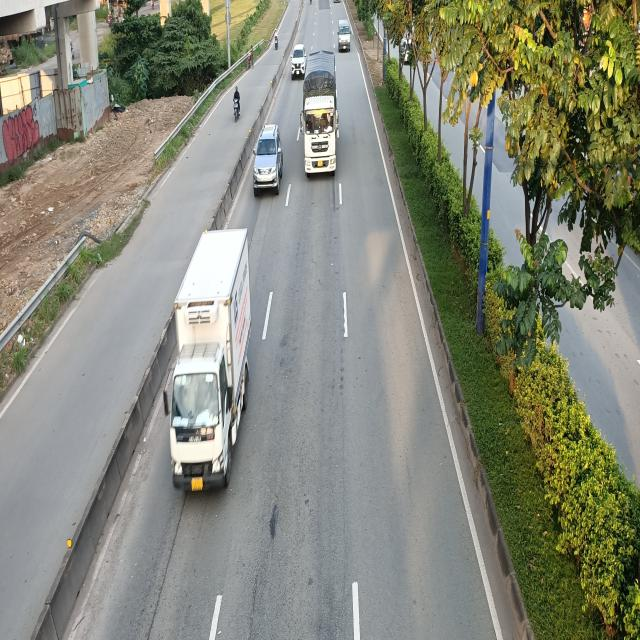car: (254, 122, 283, 194), (290, 44, 306, 80), (338, 20, 352, 51)
truck: (158, 226, 252, 494), (302, 48, 340, 175)
